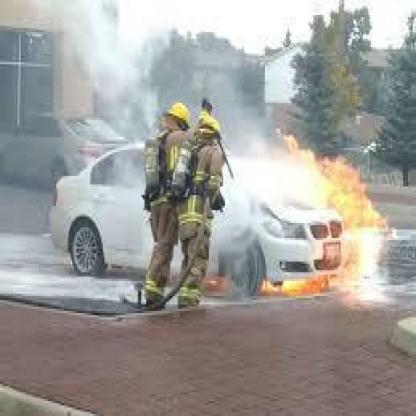fire: (280, 126, 389, 303), (259, 270, 333, 293)
other: (142, 88, 225, 308)
smoke: (72, 7, 138, 87), (233, 134, 306, 206)
